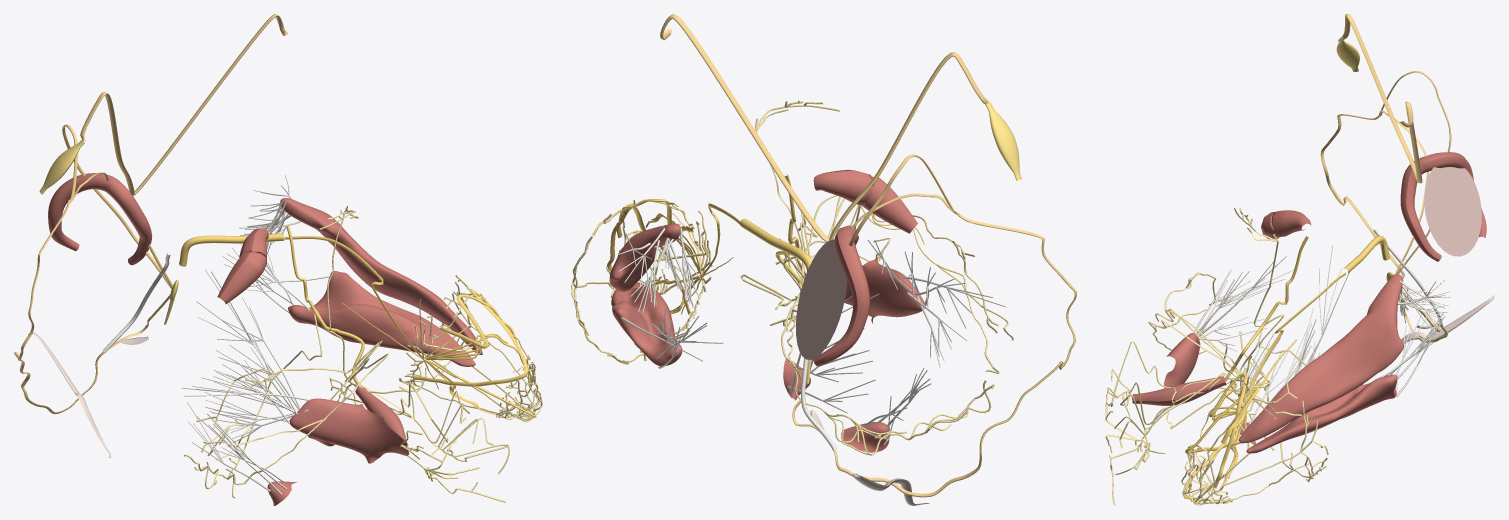
Rendered from heart-internals.glb.
3 renders of one model, left to right at view 1: azimuth 30°, elevation 25°; view 2: azimuth 150°, elevation 25°; view 3: azimuth 270°, elevation 25°, orthographic. The views are drawn at different scales.
Parts seen in each view (by area): view 1: pap_lv_posteromedial, purkinje_rv, chordae_tricuspid, pap_lv_anterolateral, pap_rv_anterior, purkinje_lv, limbus_fossa_ovalis, lbb, supraventricular_crest, bachmann_bundle, chordae_mitral, internodal_posterior (+8 smaller); view 2: purkinje_rv, fossa_ovalis, chordae_tricuspid, pap_lv_posteromedial, bachmann_bundle, chordae_mitral, supraventricular_crest, limbus_fossa_ovalis, pap_rv_anterior, purkinje_lv, pap_lv_anterolateral, internodal_posterior (+6 smaller); view 3: pap_lv_anterolateral, purkinje_rv, fossa_ovalis, chordae_tricuspid, purkinje_lv, pap_lv_posteromedial, limbus_fossa_ovalis, chordae_mitral, bachmann_bundle, lbb, moderator_band, pap_rv_anterior (+8 smaller).
Boxes of the visible parts, left/top/right/bottom form: pap_lv_posteromedial: left=288, top=271, right=475, bottom=366; purkinje_rv: left=184, top=206, right=509, bottom=502; chordae_tricuspid: left=182, top=269, right=309, bottom=494; pap_lv_anterolateral: left=280, top=198, right=482, bottom=354; pap_rv_anterior: left=289, top=398, right=409, bottom=463; purkinje_lv: left=399, top=275, right=542, bottom=422; limbus_fossa_ovalis: left=48, top=173, right=152, bottom=265; lbb: left=284, top=236, right=518, bottom=415; supraventricular_crest: left=217, top=228, right=268, bottom=303; bachmann_bundle: left=80, top=14, right=288, bottom=195; chordae_mitral: left=222, top=175, right=329, bottom=312; internodal_posterior: left=14, top=204, right=170, bottom=414; purkinje_rv: left=740, top=100, right=1013, bottom=455; fossa_ovalis: left=796, top=239, right=847, bottom=359; chordae_tricuspid: left=787, top=240, right=1005, bottom=444; pap_lv_posteromedial: left=611, top=282, right=682, bottom=365; bachmann_bundle: left=660, top=14, right=989, bottom=241; chordae_mitral: left=619, top=223, right=723, bottom=368; supraventricular_crest: left=813, top=169, right=917, bottom=233; limbus_fossa_ovalis: left=813, top=225, right=869, bottom=366; pap_rv_anterior: left=844, top=254, right=924, bottom=323; purkinje_lv: left=571, top=199, right=712, bottom=364; pap_lv_anterolateral: left=609, top=223, right=680, bottom=291; internodal_posterior: left=792, top=214, right=1076, bottom=497; pap_lv_anterolateral: left=1239, top=274, right=1404, bottom=443; purkinje_rv: left=1105, top=207, right=1306, bottom=505; fossa_ovalis: left=1424, top=167, right=1481, bottom=256; chordae_tricuspid: left=1194, top=245, right=1349, bottom=430; purkinje_lv: left=1181, top=367, right=1328, bottom=505; pap_lv_posteromedial: left=1246, top=374, right=1397, bottom=453; limbus_fossa_ovalis: left=1400, top=152, right=1486, bottom=261; chordae_mitral: left=1375, top=275, right=1450, bottom=396; bachmann_bundle: left=1338, top=14, right=1422, bottom=183; lbb: left=1200, top=272, right=1345, bottom=489; moderator_band: left=1132, top=376, right=1226, bottom=405; pap_rv_anterior: left=1164, top=333, right=1200, bottom=390.
Size of the model in its own units: 1.09 by 0.9385 by 0.8653.
